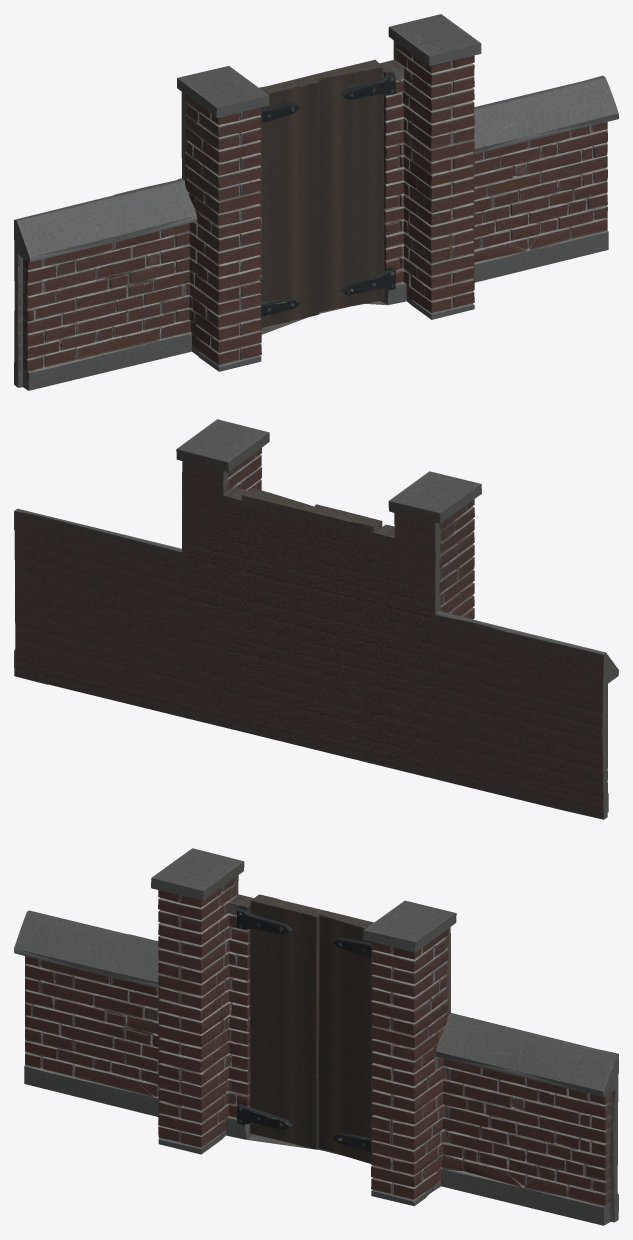
The model's file is coal_yard_wall_gate.glb.
3 renders of one model, top to bottom at view 1: azimuth 30°, elevation 25°; view 2: azimuth 150°, elevation 25°; view 3: azimuth 330°, elevation 25°, orthographic.
Parts seen in each view (by area): view 1: main; view 2: main; view 3: main.
Part boxes in pixels (x1,y1,x2,y2): main: (14, 14, 618, 390); main: (14, 419, 618, 819); main: (14, 848, 618, 1225).
Bounding box in the file's own units: 6.46 × 2.8 × 0.7803.
1 material, 1 textured.
